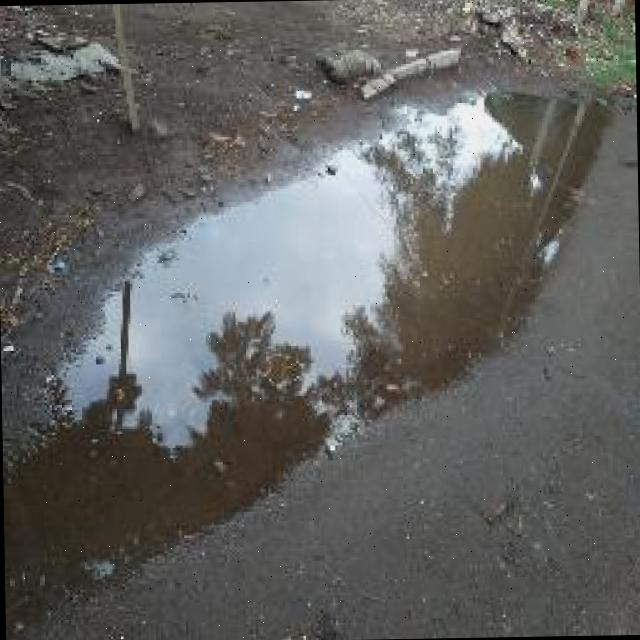waterlogging: (192, 144, 358, 552), (442, 78, 640, 298)
